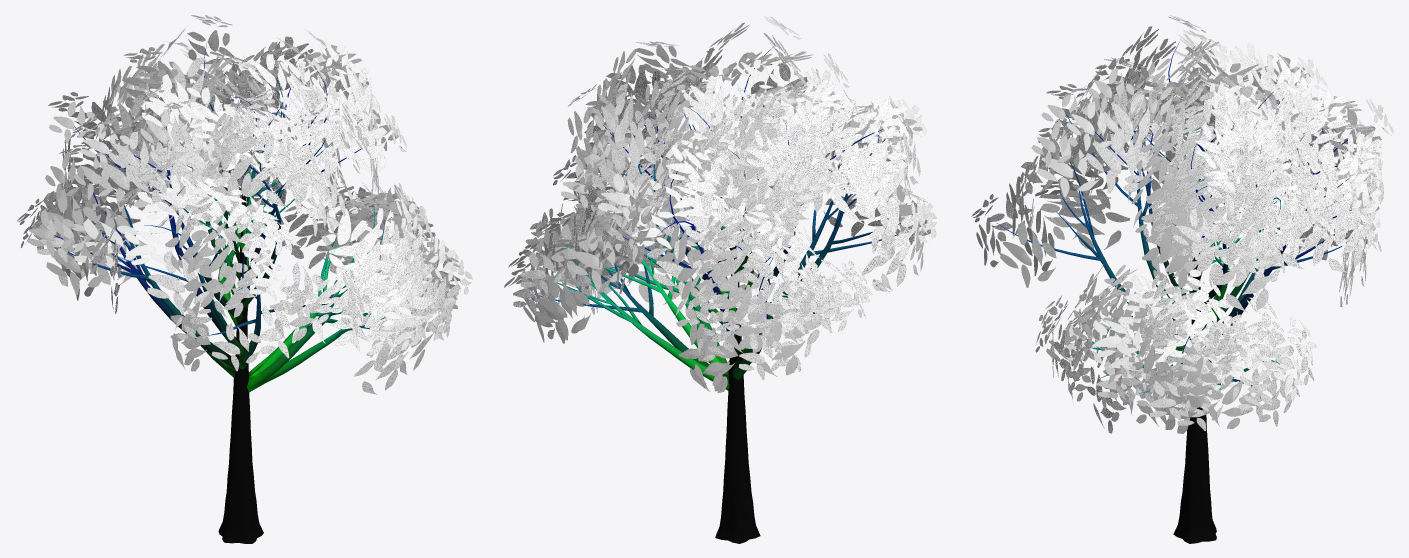
The model's file is Tree_003.fbx.
The picture shows the model from 3 angles, left to right: view 1: azimuth 30°, elevation 25°; view 2: azimuth 150°, elevation 25°; view 3: azimuth 270°, elevation 25°; orthographic projection.
Parts seen in each view (by area): view 1: Tree_1, Tree_0; view 2: Tree_1, Tree_0; view 3: Tree_1, Tree_0.
Boxes of the visible parts, left/top/right/bottom form: Tree_1: left=17, top=15, right=472, bottom=394; Tree_0: left=54, top=41, right=438, bottom=543; Tree_1: left=504, top=16, right=936, bottom=392; Tree_0: left=534, top=45, right=900, bottom=543; Tree_1: left=971, top=15, right=1393, bottom=433; Tree_0: left=997, top=42, right=1351, bottom=543.
Size of the model in its own units: 2.69 by 3.37 by 2.7.
